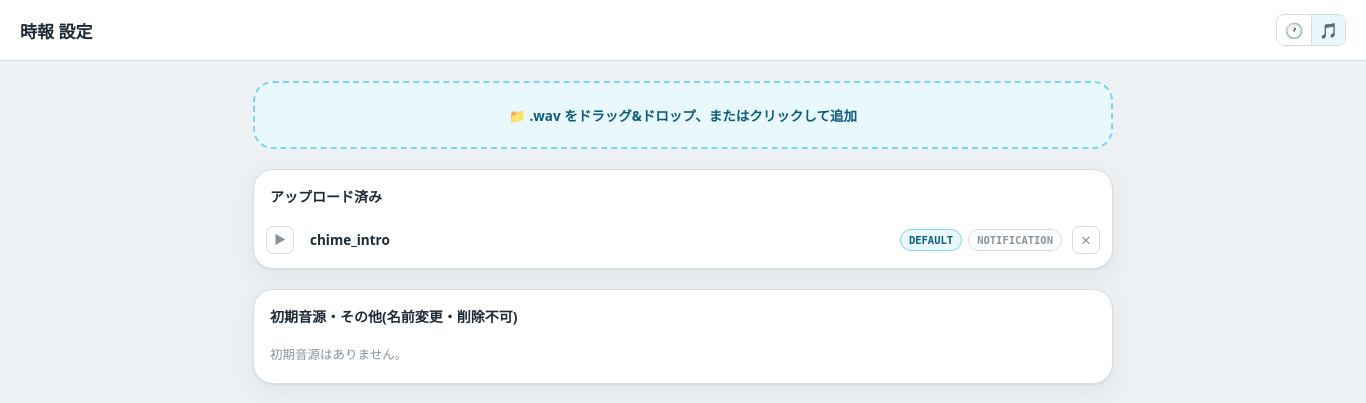
it: 楽曲管理画面 › 再生ボタンをクリックすると音声を再生し、アイコンが⏸に切り替わる
Check: the button "chime_intro" is shown, box top-left (304, 227), bottom-right (890, 253)
Click the button named "chime_intro を再生" at (280, 240), box top-left (266, 226), bottom-right (294, 254)
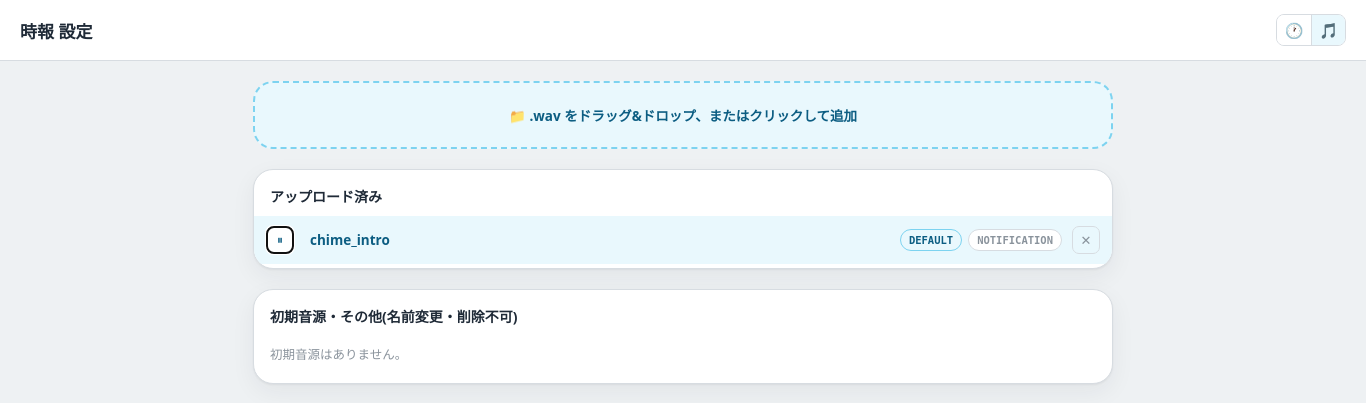
Check: the button named "chime_intro を停止" is shown, box top-left (266, 226), bottom-right (294, 254)
